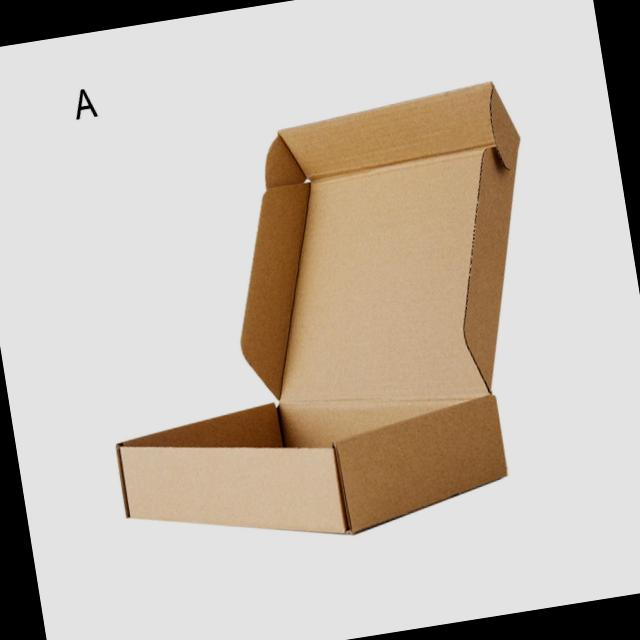Garbage: (38, 66, 623, 592)
